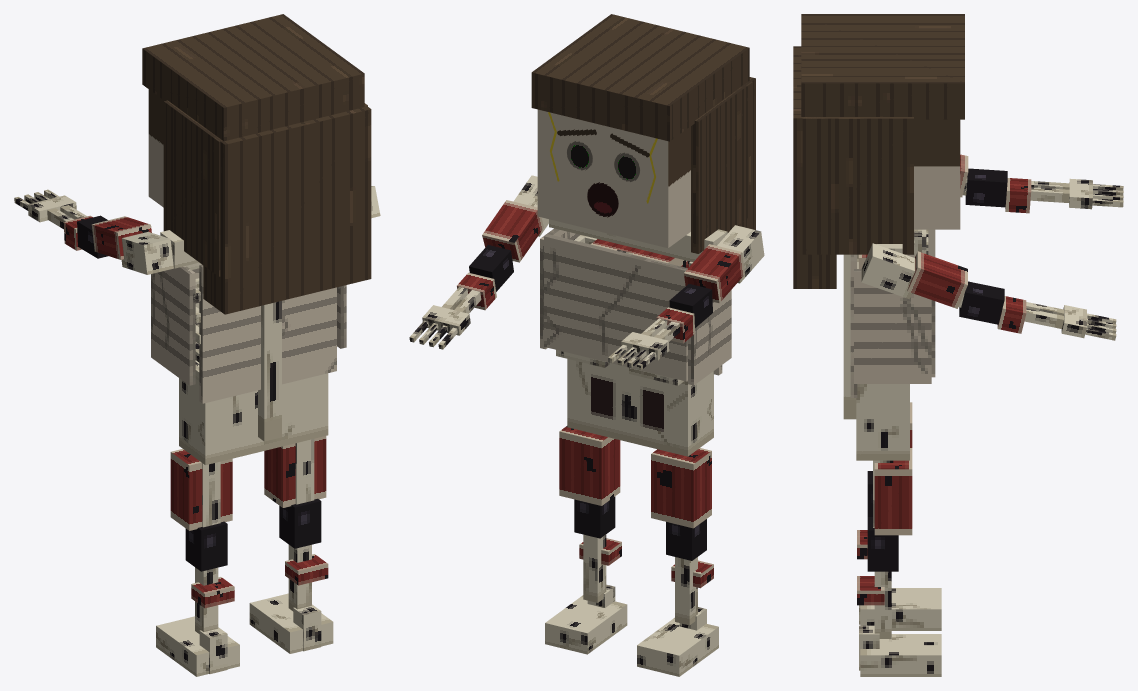
The model's file is mon_zombie_waif.glb.
3 renders of one model, left to right at view 1: azimuth 30°, elevation 25°; view 2: azimuth 150°, elevation 25°; view 3: azimuth 270°, elevation 25°, orthographic. The views are drawn at different scales.
Parts seen in each view (by area): view 1: block_hair-long, block_hair-cap, block_membrane (×3), block_pelvis, block_hair-lock, block_thigh-muscle.L, block_spine, block_thigh-muscle.R, block_foot-bone.R, block_foot-bone.L, block_shoulder.L, block_knee.R (+14 smaller); view 2: block_hair-cap, block_membrane (×3), block_head, block_pelvis, block_hair-lock, block_thigh-muscle.L, block_thigh-muscle.R, block_foot-bone.R, block_foot-bone.L, block_biceps.R, block_biceps.L, block_collarbone (+14 smaller); view 3: block_hair-cap, block_hair-lock, block_membrane (×3), block_head, block_pelvis, block_hair-long, block_foot-bone.R, block_thigh-muscle.R, block_foot-bone.L, block_biceps.R, block_shoulder.R, block_elbow.L (+12 smaller).
Boxes of the visible parts, x1,y1,x2,y2 form: block_hair-long: (203,105,371,314); block_hair-cap: (142,14,364,141); block_membrane (×3): (151,264,346,403); block_pelvis: (179,360,328,465); block_hair-lock: (163,100,222,276); block_thigh-muscle.L: (170,449,232,530); block_spine: (258,301,281,441); block_thigh-muscle.R: (264,436,326,507); block_foot-bone.R: (249,593,333,653); block_foot-bone.L: (156,616,239,676); block_shoulder.L: (121,231,173,274); block_knee.R: (279,498,321,548); block_hair-cap: (531,14,749,141); block_membrane (×3): (540,228,731,385); block_head: (537,109,690,247); block_pelvis: (567,359,713,456); block_hair-lock: (691,81,752,253); block_thigh-muscle.L: (651,448,711,528); block_thigh-muscle.R: (559,426,620,505); block_foot-bone.R: (545,595,627,654); block_foot-bone.L: (637,617,718,676); block_biceps.R: (482,200,543,262); block_biceps.L: (684,244,744,303); block_collarbone: (549,219,727,262); block_hair-cap: (801,14,964,119); block_hair-lock: (802,117,913,254); block_membrane (×3): (850,229,935,397); block_head: (914,119,960,229); block_pelvis: (856,384,909,460); block_hair-long: (793,46,836,288); block_foot-bone.R: (860,634,941,676); block_thigh-muscle.R: (874,448,912,535); block_foot-bone.L: (860,588,941,630); block_biceps.R: (907,251,967,308); block_shoulder.R: (861,243,915,299); block_elbow.L: (965,168,1007,207).
Bounding box in the file's own units: 0.493 × 1.15 × 0.5765.
1 material, 1 textured.
